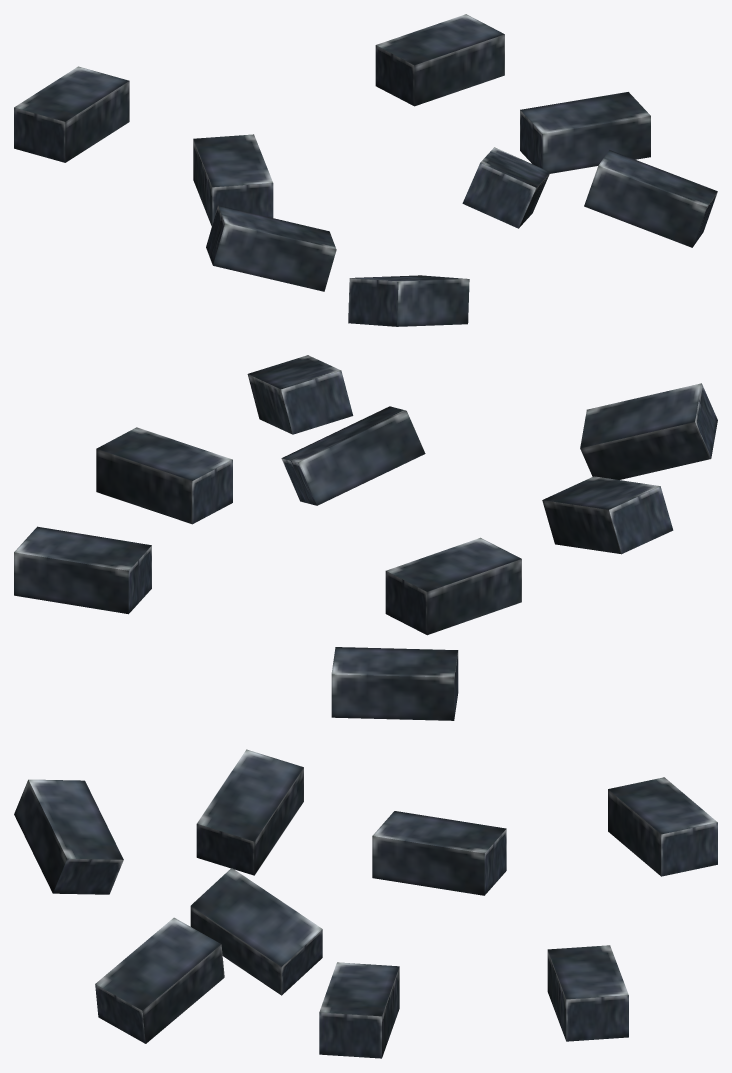
3 renders of one model, top to bottom at view 1: azimuth 30°, elevation 25°; view 2: azimuth 150°, elevation 25°; view 3: azimuth 270°, elevation 25°, orthographic. The views are drawn at different scales.
Visible parts, largest first — view 1: xs_wj21; view 2: xs_wj21; view 3: xs_wj21.
Part boxes in pixels (box(x1,y1,x2,y2)): xs_wj21: box(14, 14, 717, 326); xs_wj21: box(14, 355, 717, 720); xs_wj21: box(14, 749, 717, 1058).
Bounding box in the file's own units: 1604 × 277 × 1977.
Materials: 1 (1 with a texture image).
